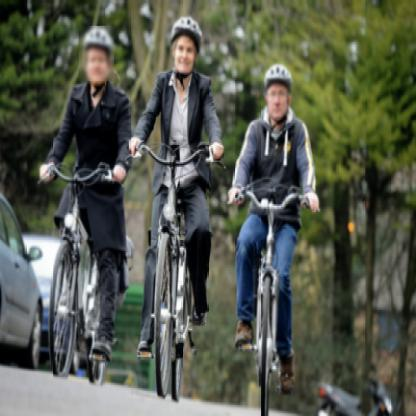With Helmet: (79, 27, 115, 83), (171, 14, 203, 72), (261, 61, 293, 118)
